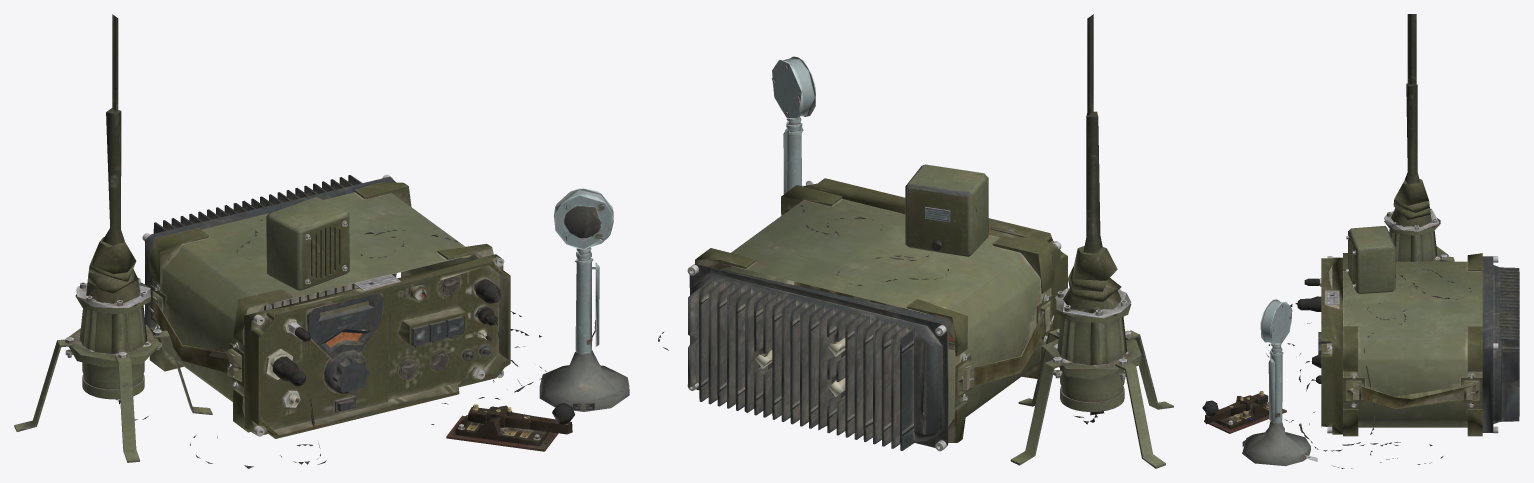
Rendered from vintage_radio_transceiver.glb.
3 views of the same model, side by side, from view 1: azimuth 30°, elevation 25°; view 2: azimuth 150°, elevation 25°; view 3: azimuth 270°, elevation 25° (orthographic). The views are drawn at different scales.
Parts seen in each view (by area): view 1: vintage_radio_transceiver, vintage_radio_transceiver_antenna, vintage_radio_transceiver_microphone, vintage_radio_transceiver_speaker, vintage_radio_transceiver_morse_key_base, vintage_radio_transceiver_morse_key_arm, vintage_radio_transceiver_dial, vintage_radio_transceiver_antenna_plug_a, vintage_radio_transceiver_cables; view 2: vintage_radio_transceiver, vintage_radio_transceiver_antenna, vintage_radio_transceiver_speaker, vintage_radio_transceiver_microphone; view 3: vintage_radio_transceiver, vintage_radio_transceiver_antenna, vintage_radio_transceiver_microphone, vintage_radio_transceiver_speaker, vintage_radio_transceiver_morse_key_base, vintage_radio_transceiver_morse_key_arm, vintage_radio_transceiver_cables.
Part boxes in pixels (x1=…): vintage_radio_transceiver: x1=142, y1=174, x2=510, y2=438; vintage_radio_transceiver_antenna: x1=14, y1=14, x2=212, y2=462; vintage_radio_transceiver_microphone: x1=539, y1=188, x2=629, y2=411; vintage_radio_transceiver_speaker: x1=266, y1=197, x2=349, y2=290; vintage_radio_transceiver_morse_key_base: x1=446, y1=405, x2=558, y2=451; vintage_radio_transceiver_morse_key_arm: x1=467, y1=403, x2=574, y2=434; vintage_radio_transceiver_dial: x1=324, y1=332, x2=370, y2=394; vintage_radio_transceiver_antenna_plug_a: x1=272, y1=356, x2=305, y2=386; vintage_radio_transceiver_cables: x1=134, y1=219, x2=546, y2=468; vintage_radio_transceiver: x1=687, y1=178, x2=1067, y2=451; vintage_radio_transceiver_antenna: x1=1010, y1=14, x2=1173, y2=468; vintage_radio_transceiver_speaker: x1=905, y1=164, x2=988, y2=256; vintage_radio_transceiver_microphone: x1=771, y1=56, x2=815, y2=194; vintage_radio_transceiver: x1=1321, y1=253, x2=1519, y2=436; vintage_radio_transceiver_antenna: x1=1384, y1=14, x2=1454, y2=261; vintage_radio_transceiver_microphone: x1=1242, y1=299, x2=1317, y2=466; vintage_radio_transceiver_speaker: x1=1346, y1=226, x2=1395, y2=294; vintage_radio_transceiver_morse_key_base: x1=1204, y1=396, x2=1286, y2=433; vintage_radio_transceiver_morse_key_arm: x1=1202, y1=391, x2=1268, y2=424; vintage_radio_transceiver_cables: x1=1266, y1=269, x2=1471, y2=468.
Size of the model in its own units: 0.5739 by 0.4344 by 0.4124.
Materials: 2 (2 with a texture image).
